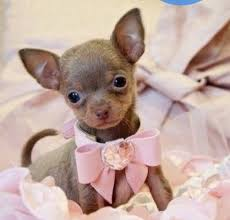chihuahua: (11, 5, 178, 214)
